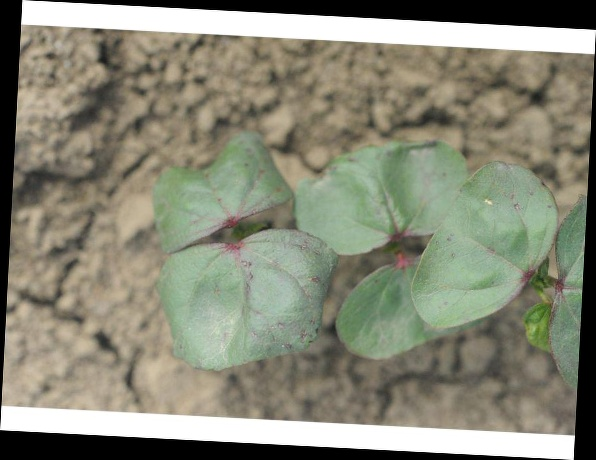cotton: (147, 136, 584, 379)
